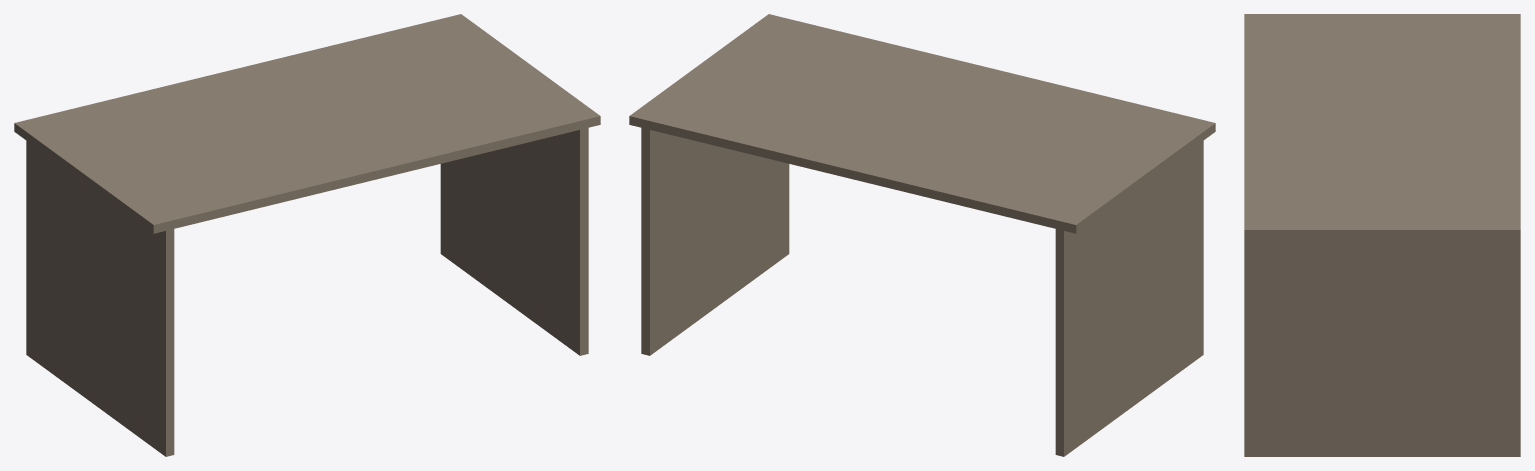
File: LightTable3.fbx
3 views of the same model, side by side, from view 1: azimuth 30°, elevation 25°; view 2: azimuth 150°, elevation 25°; view 3: azimuth 270°, elevation 25° (orthographic).
Visible parts, largest first — view 1: Cube.069; view 2: Cube.069; view 3: Cube.069.
Boxes of the visible parts, left/top/right/bottom form: Cube.069: left=14, top=14, right=600, bottom=456; Cube.069: left=629, top=14, right=1215, bottom=456; Cube.069: left=1244, top=14, right=1520, bottom=456.
Bounding box in the file's own units: 370 × 186 × 200.
